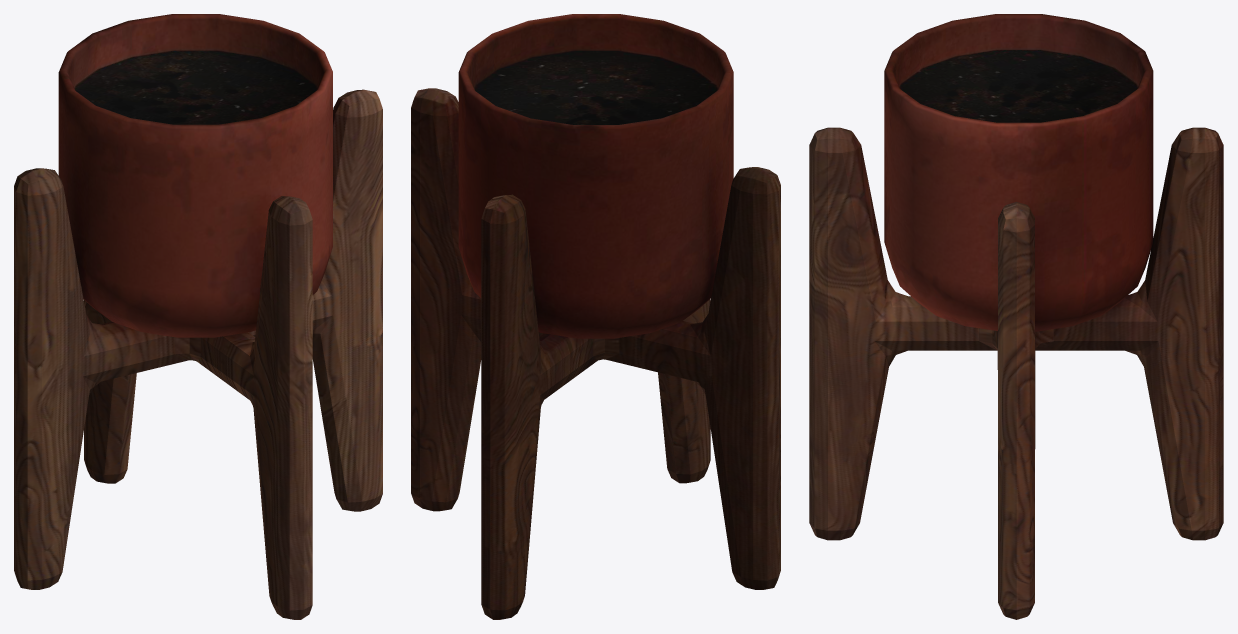
File: plantstand2_L.glb
3 renders of one model, left to right at view 1: azimuth 30°, elevation 25°; view 2: azimuth 150°, elevation 25°; view 3: azimuth 270°, elevation 25°, orthographic. The views are drawn at different scales.
Visible parts, largest first — view 1: PlanterStand, Planter; view 2: PlanterStand, Planter; view 3: PlanterStand, Planter.
Boxes of the visible parts, x1,y1,x2,y2 form: PlanterStand: (14, 89, 382, 619); Planter: (58, 14, 332, 337); PlanterStand: (411, 88, 780, 619); Planter: (458, 14, 733, 338); PlanterStand: (809, 127, 1223, 619); Planter: (884, 14, 1153, 331).
Size of the model in its own units: 0.5861 by 0.735 by 0.5871.
Materials: 1 (1 with a texture image).
